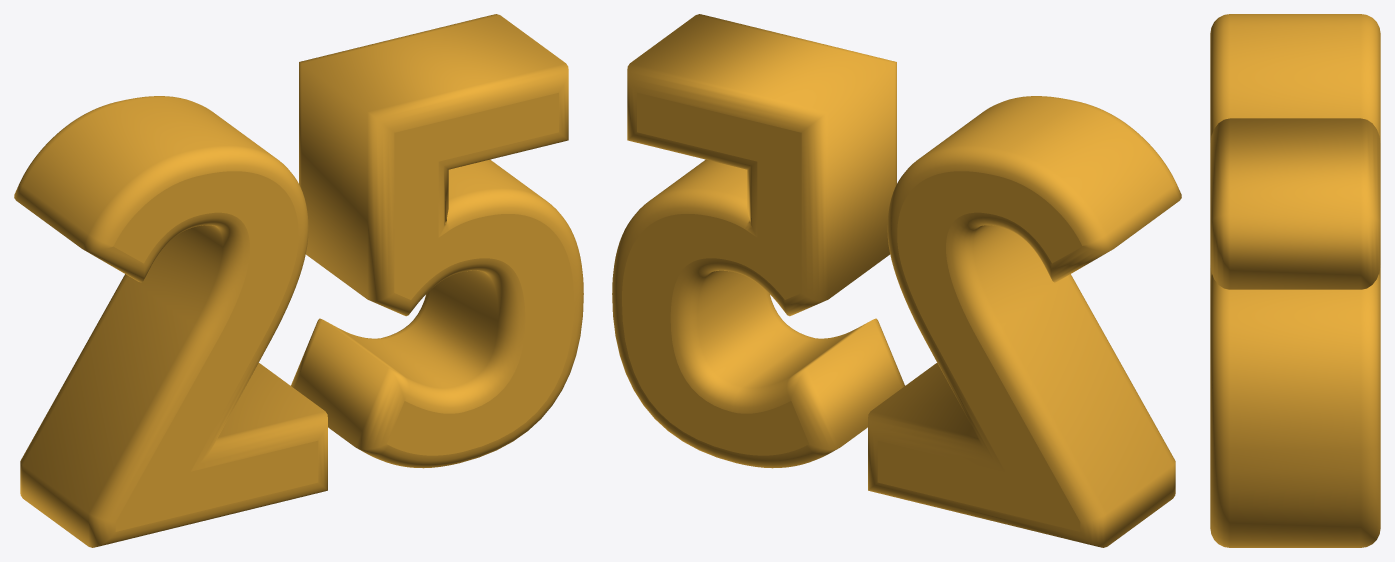
3 renders of one model, left to right at view 1: azimuth 30°, elevation 25°; view 2: azimuth 150°, elevation 25°; view 3: azimuth 270°, elevation 25°, orthographic.
Parts seen in each view (by area): view 1: Text; view 2: Text; view 3: Text.
Part boxes in pixels (<box>): Text: <box>14,14,583,547</box>; Text: <box>612,14,1181,547</box>; Text: <box>1210,14,1380,547</box>.
Size of the model in its own units: 87.51 by 63.03 by 26.
